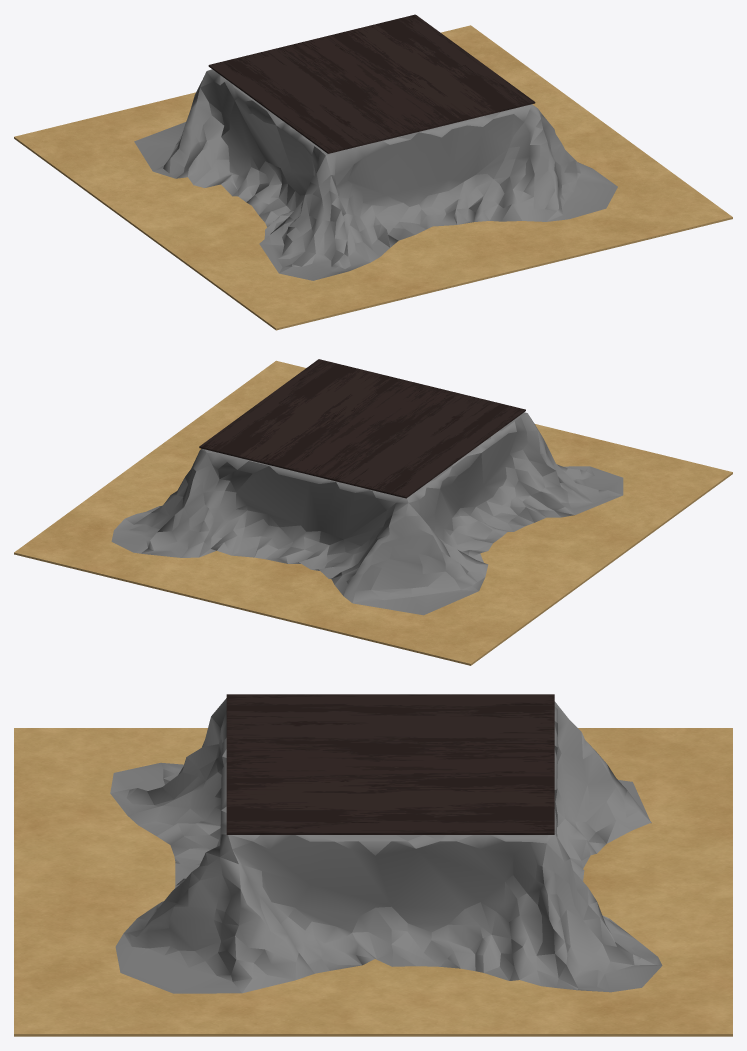
The model's file is kotatsu.fbx.
3 renders of one model, top to bottom at view 1: azimuth 30°, elevation 25°; view 2: azimuth 150°, elevation 25°; view 3: azimuth 270°, elevation 25°, orthographic. The views are drawn at different scales.
Parts seen in each view (by area): view 1: Alfombra, Manto, Tabla; view 2: Alfombra, Manto, Tabla; view 3: Alfombra, Manto, Tabla.
Part boxes in pixels (box(x1,y1,x2,y2)): Alfombra: box(14, 25, 732, 330); Manto: box(134, 69, 617, 280); Tabla: box(208, 14, 535, 153); Alfombra: box(14, 360, 732, 665); Manto: box(111, 412, 623, 615); Tabla: box(199, 359, 525, 498); Alfombra: box(14, 728, 732, 1036); Manto: box(110, 698, 662, 993); Tabla: box(226, 694, 554, 834).
Bounding box in the file's own units: 132 × 24.81 × 132.
